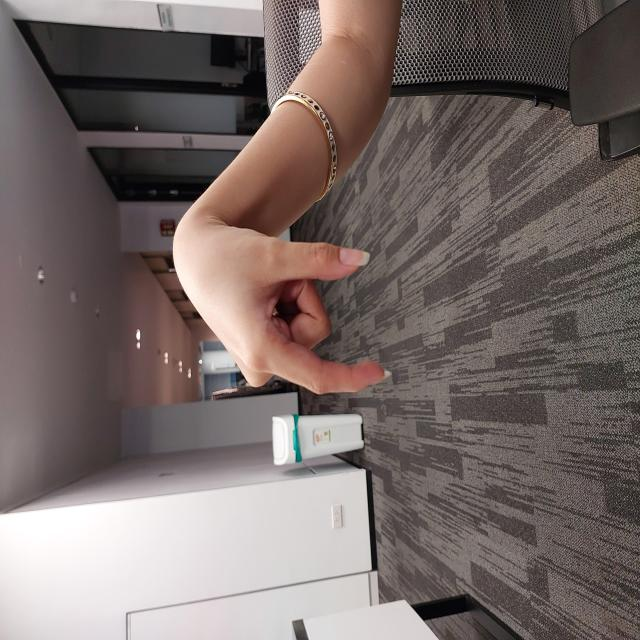Q: (242, 170, 419, 392)
